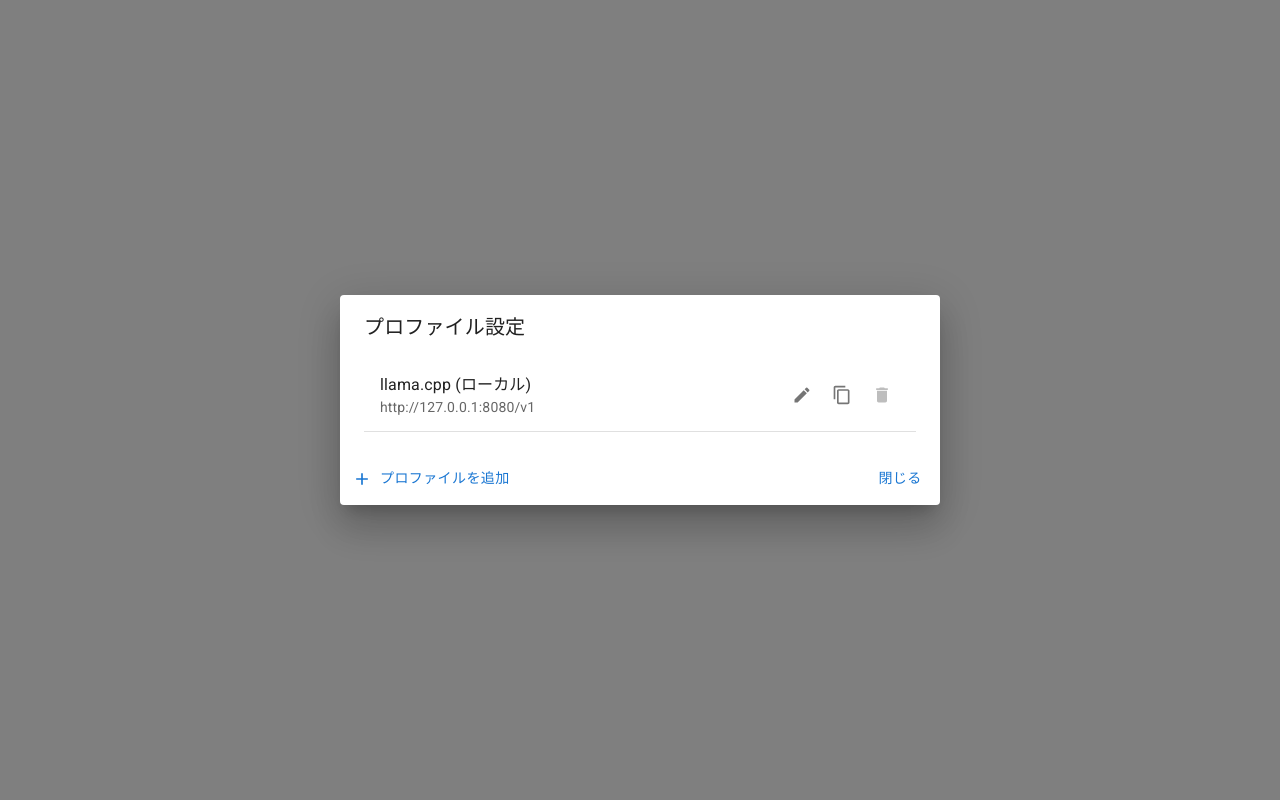
it: ProfileSettingsDialog › cancelling a duplicate leaves nothing behind
Click the button named "llama.cpp (ローカル) を複製" at [842, 395], box [824,377,860,413]
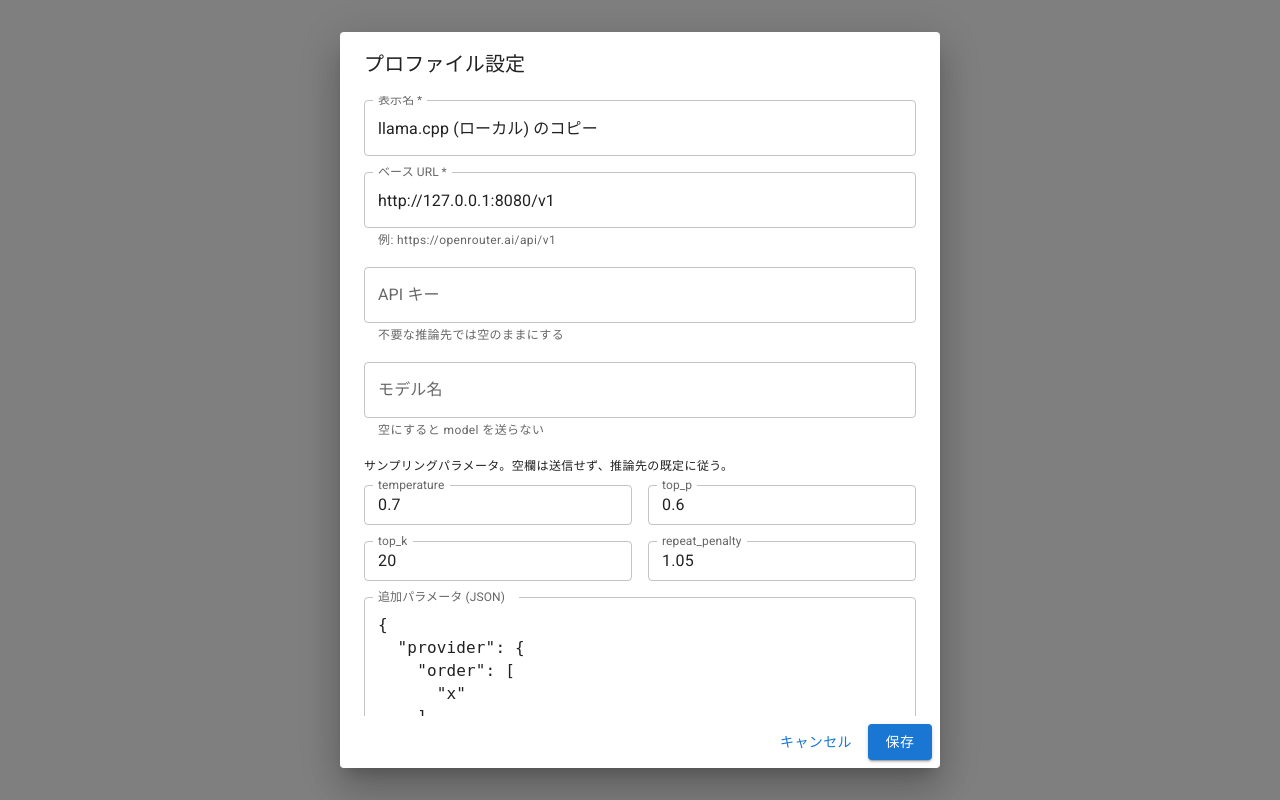
Click the button "キャンセル" at [816, 742], box [772,724,860,760]
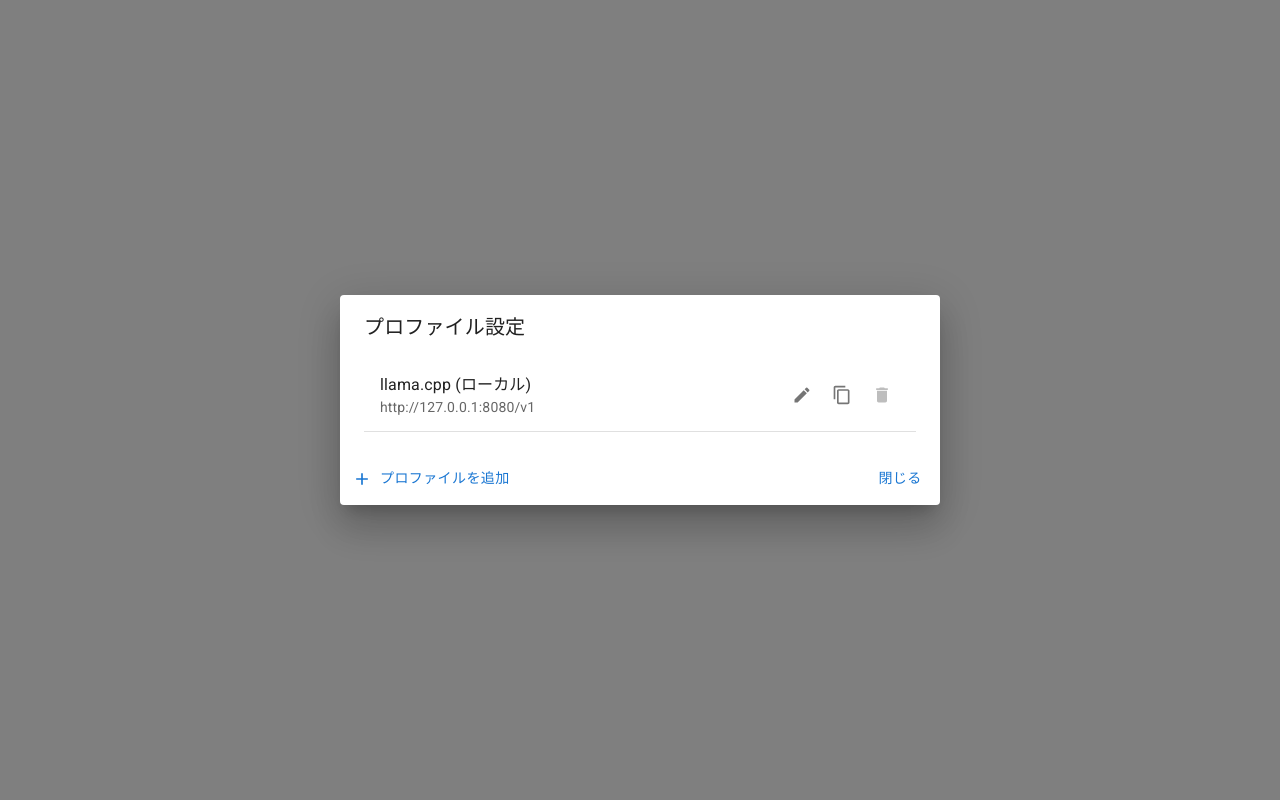
Check: the button "プロファイルを追加" is shown, box [348,460,518,497]
